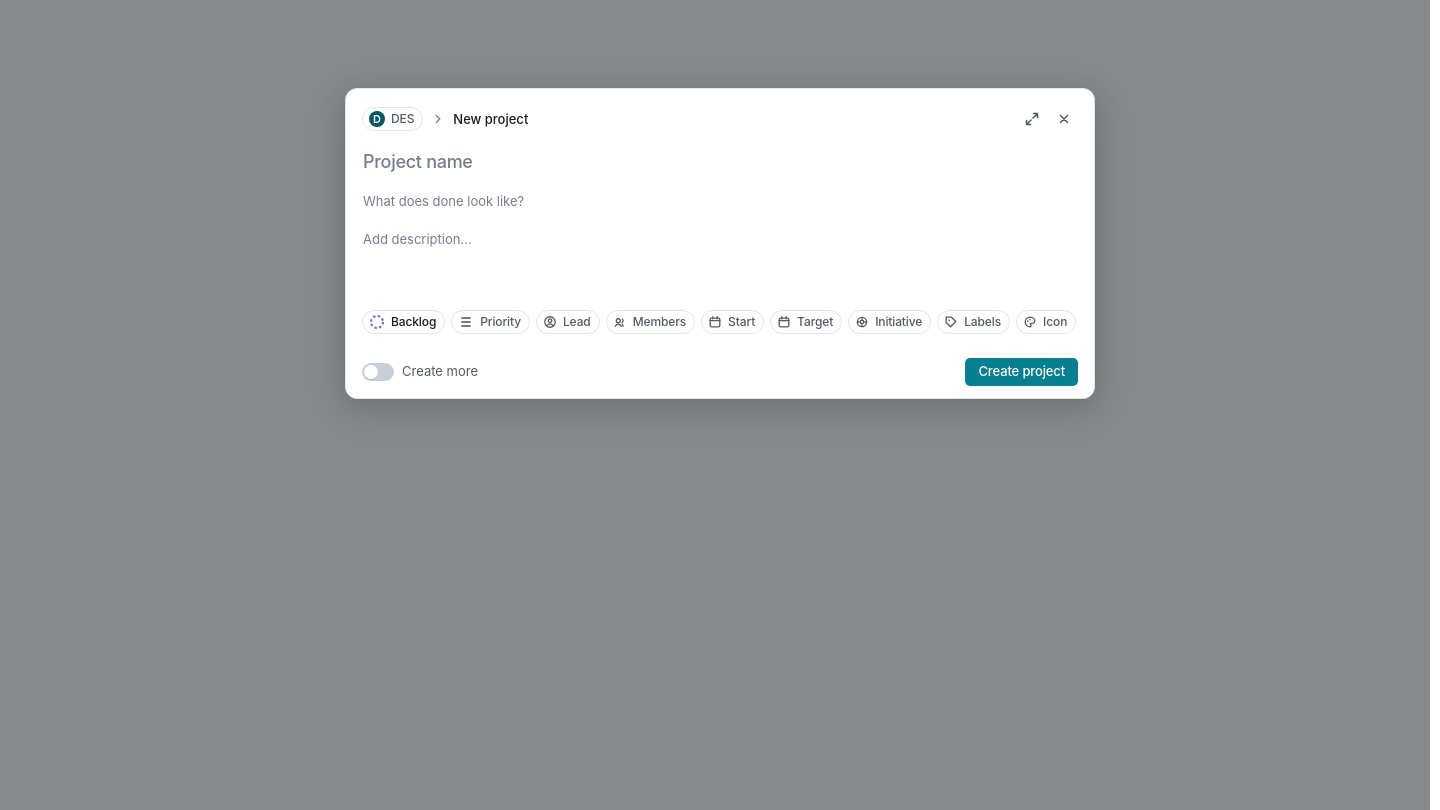
Test: CreateProjectModal › refuses an empty name with the message the e2e spec reads
The image size is (1440, 810).
Click the button "Create project" at (1022, 372), box [966, 358, 1078, 386]
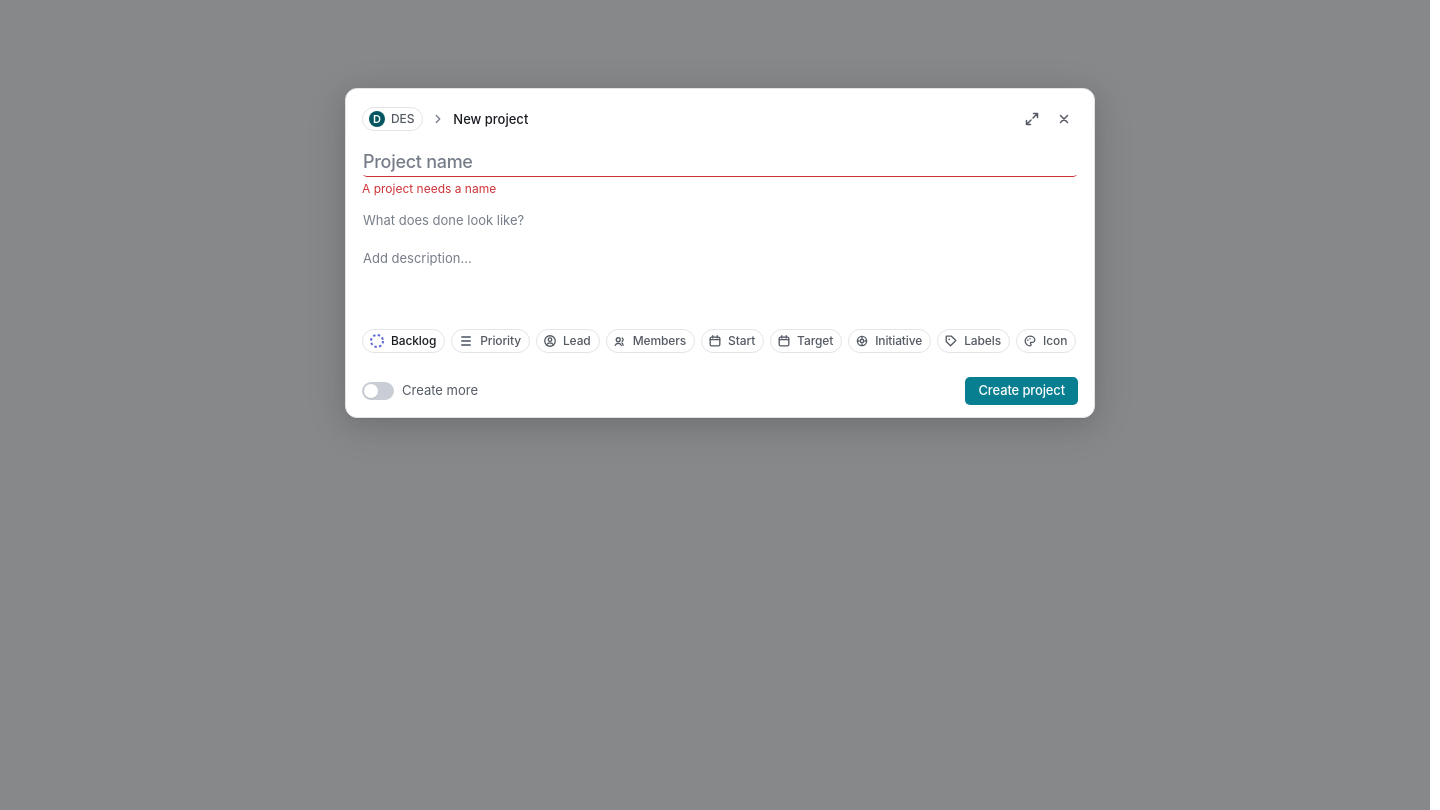
Now the text "A project needs a name" is shown, box [362, 181, 496, 196]
